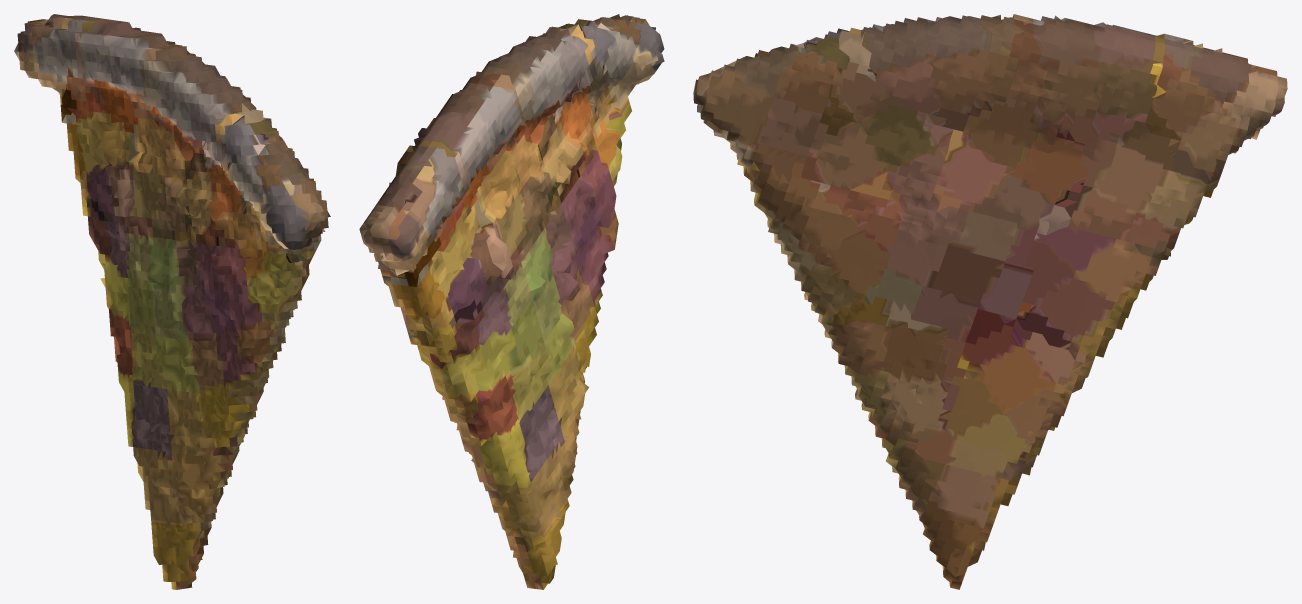
File: simplified_pizza.glb
The picture shows the model from 3 angles, left to right: view 1: azimuth 30°, elevation 25°; view 2: azimuth 150°, elevation 25°; view 3: azimuth 270°, elevation 25°; orthographic projection. The views are drawn at different scales.
Parts seen in each view (by area): view 1: Mesh1; view 2: Mesh1; view 3: Mesh1.
Boxes of the visible parts, x1,y1,x2,y2 form: Mesh1: (14,14,330,589); Mesh1: (359,14,664,589); Mesh1: (693,14,1287,589).
Bounding box in the file's own units: 0.174 × 1.2 × 1.12.
1 material, 1 textured.
